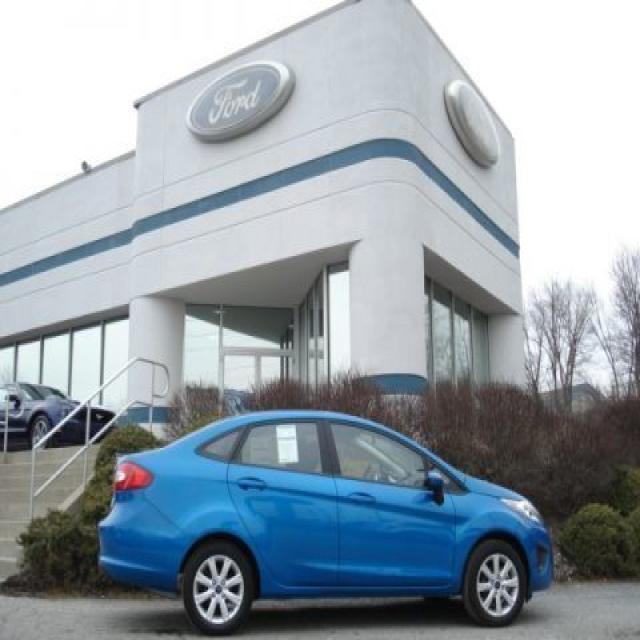car: (106, 411, 559, 628), (1, 379, 117, 449)
